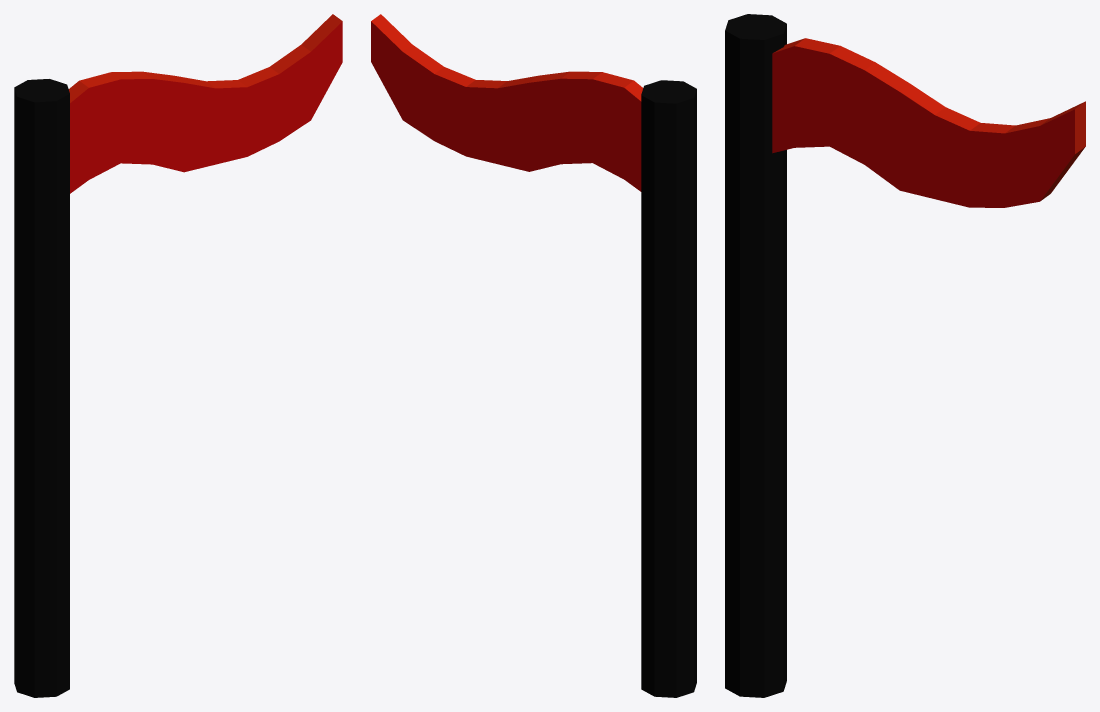
Rendered from redflag.obj.
3 views of the same model, side by side, from view 1: azimuth 30°, elevation 25°; view 2: azimuth 150°, elevation 25°; view 3: azimuth 330°, elevation 25° (orthographic). The views are drawn at different scales.
Parts seen in each view (by area): view 1: Cylinder.001, Grid; view 2: Cylinder.001, Grid; view 3: Cylinder.001, Grid.
Part boxes in pixels (x1,y1,x2,y2): Cylinder.001: [14, 79, 69, 697]; Grid: [68, 14, 342, 193]; Cylinder.001: [641, 80, 696, 697]; Grid: [371, 14, 643, 191]; Cylinder.001: [725, 14, 786, 697]; Grid: [772, 38, 1085, 207].
Size of the model in its own units: 11.24 by 20.06 by 1.76.
